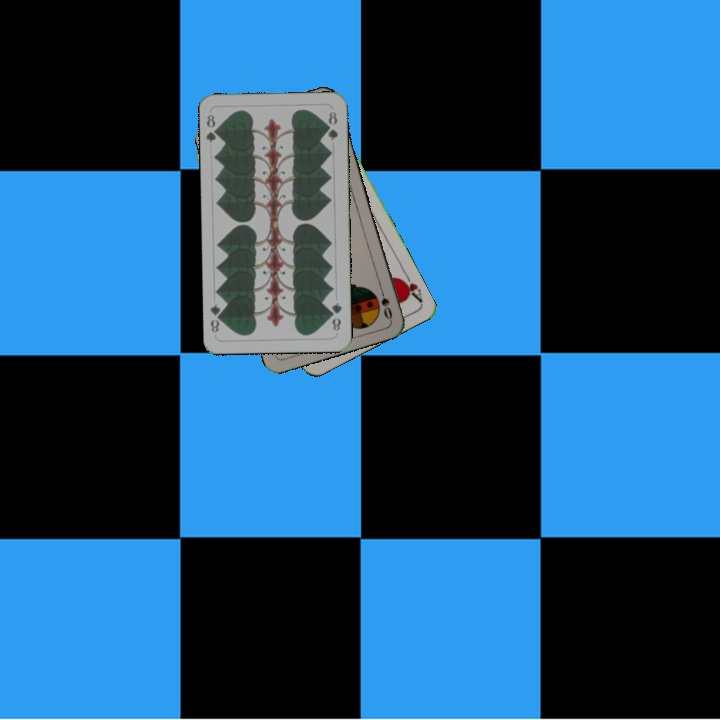G8: (202, 111, 222, 145), (327, 298, 344, 333)
HA: (396, 267, 425, 305)
SO: (375, 282, 395, 322)
